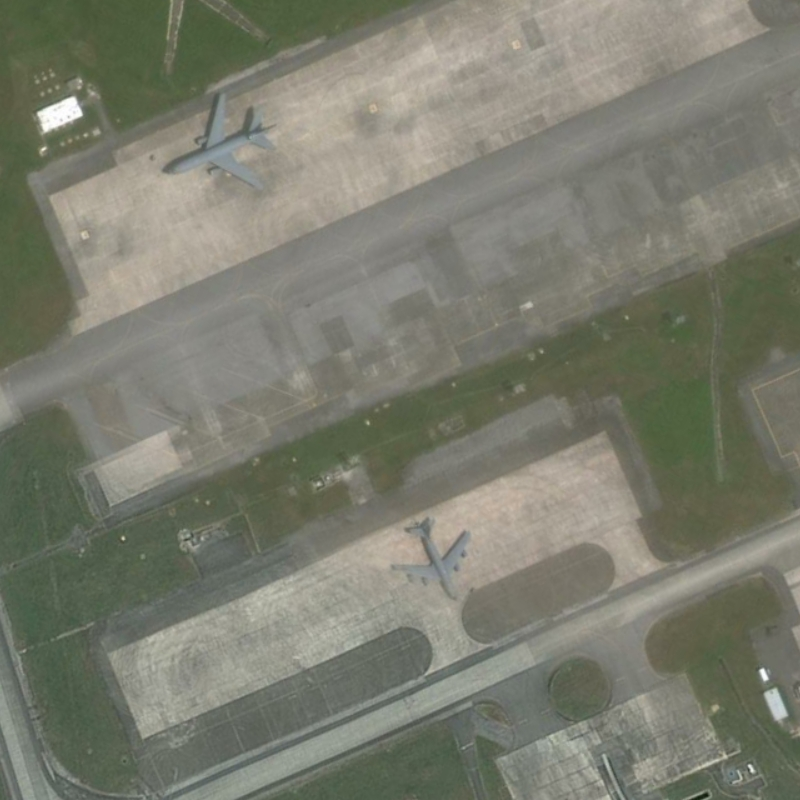A14: (381, 512, 476, 605)
A18: (158, 87, 280, 199)
